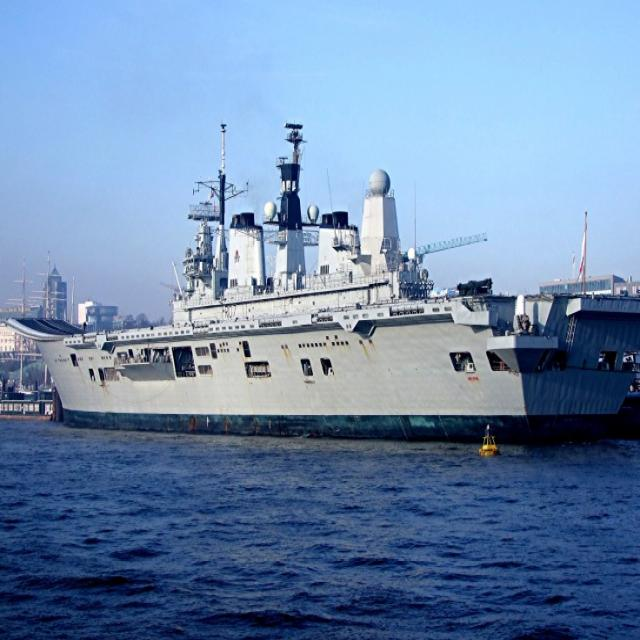Portanaves: (3, 104, 640, 442)
